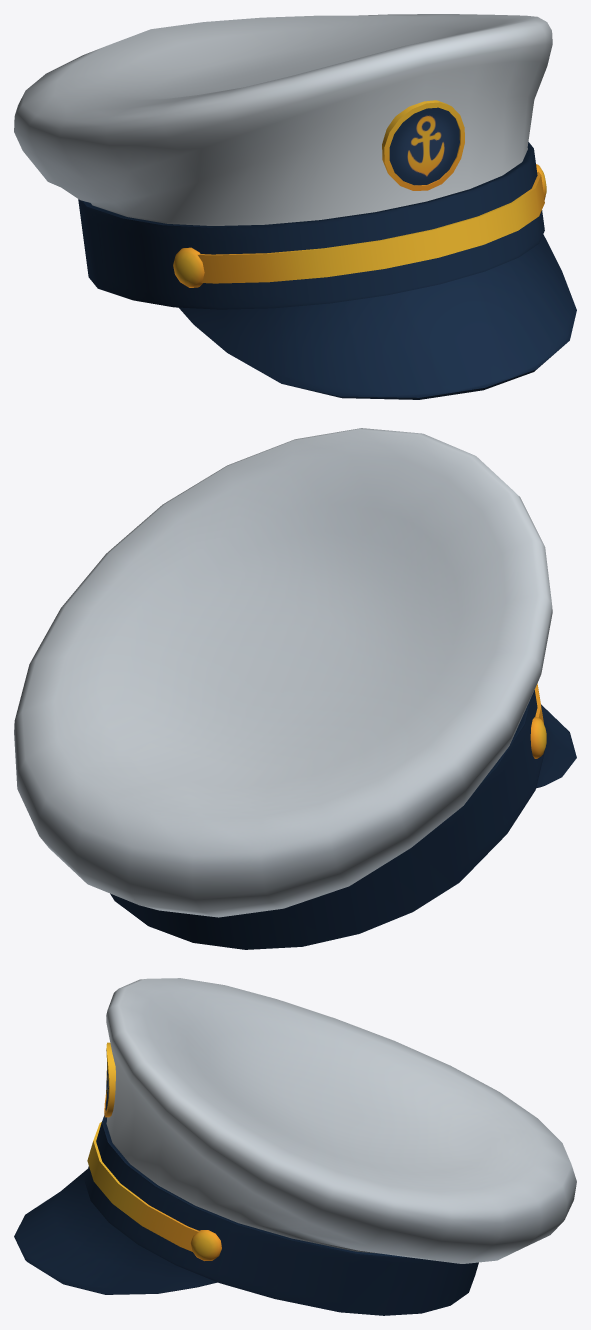
File: CaptainHat.FBX
3 renders of one model, top to bottom at view 1: azimuth 30°, elevation 25°; view 2: azimuth 150°, elevation 25°; view 3: azimuth 270°, elevation 25°, orthographic. The views are drawn at different scales.
Visible parts, largest first — view 1: CaptainHat; view 2: CaptainHat; view 3: CaptainHat.
Part boxes in pixels (box(x1,y1,x2,y2)): CaptainHat: box(14, 14, 576, 399); CaptainHat: box(14, 428, 576, 949); CaptainHat: box(14, 978, 576, 1315).
Size of the model in its own units: 40.79 by 29.7 by 55.98.
1 material, 1 textured.
